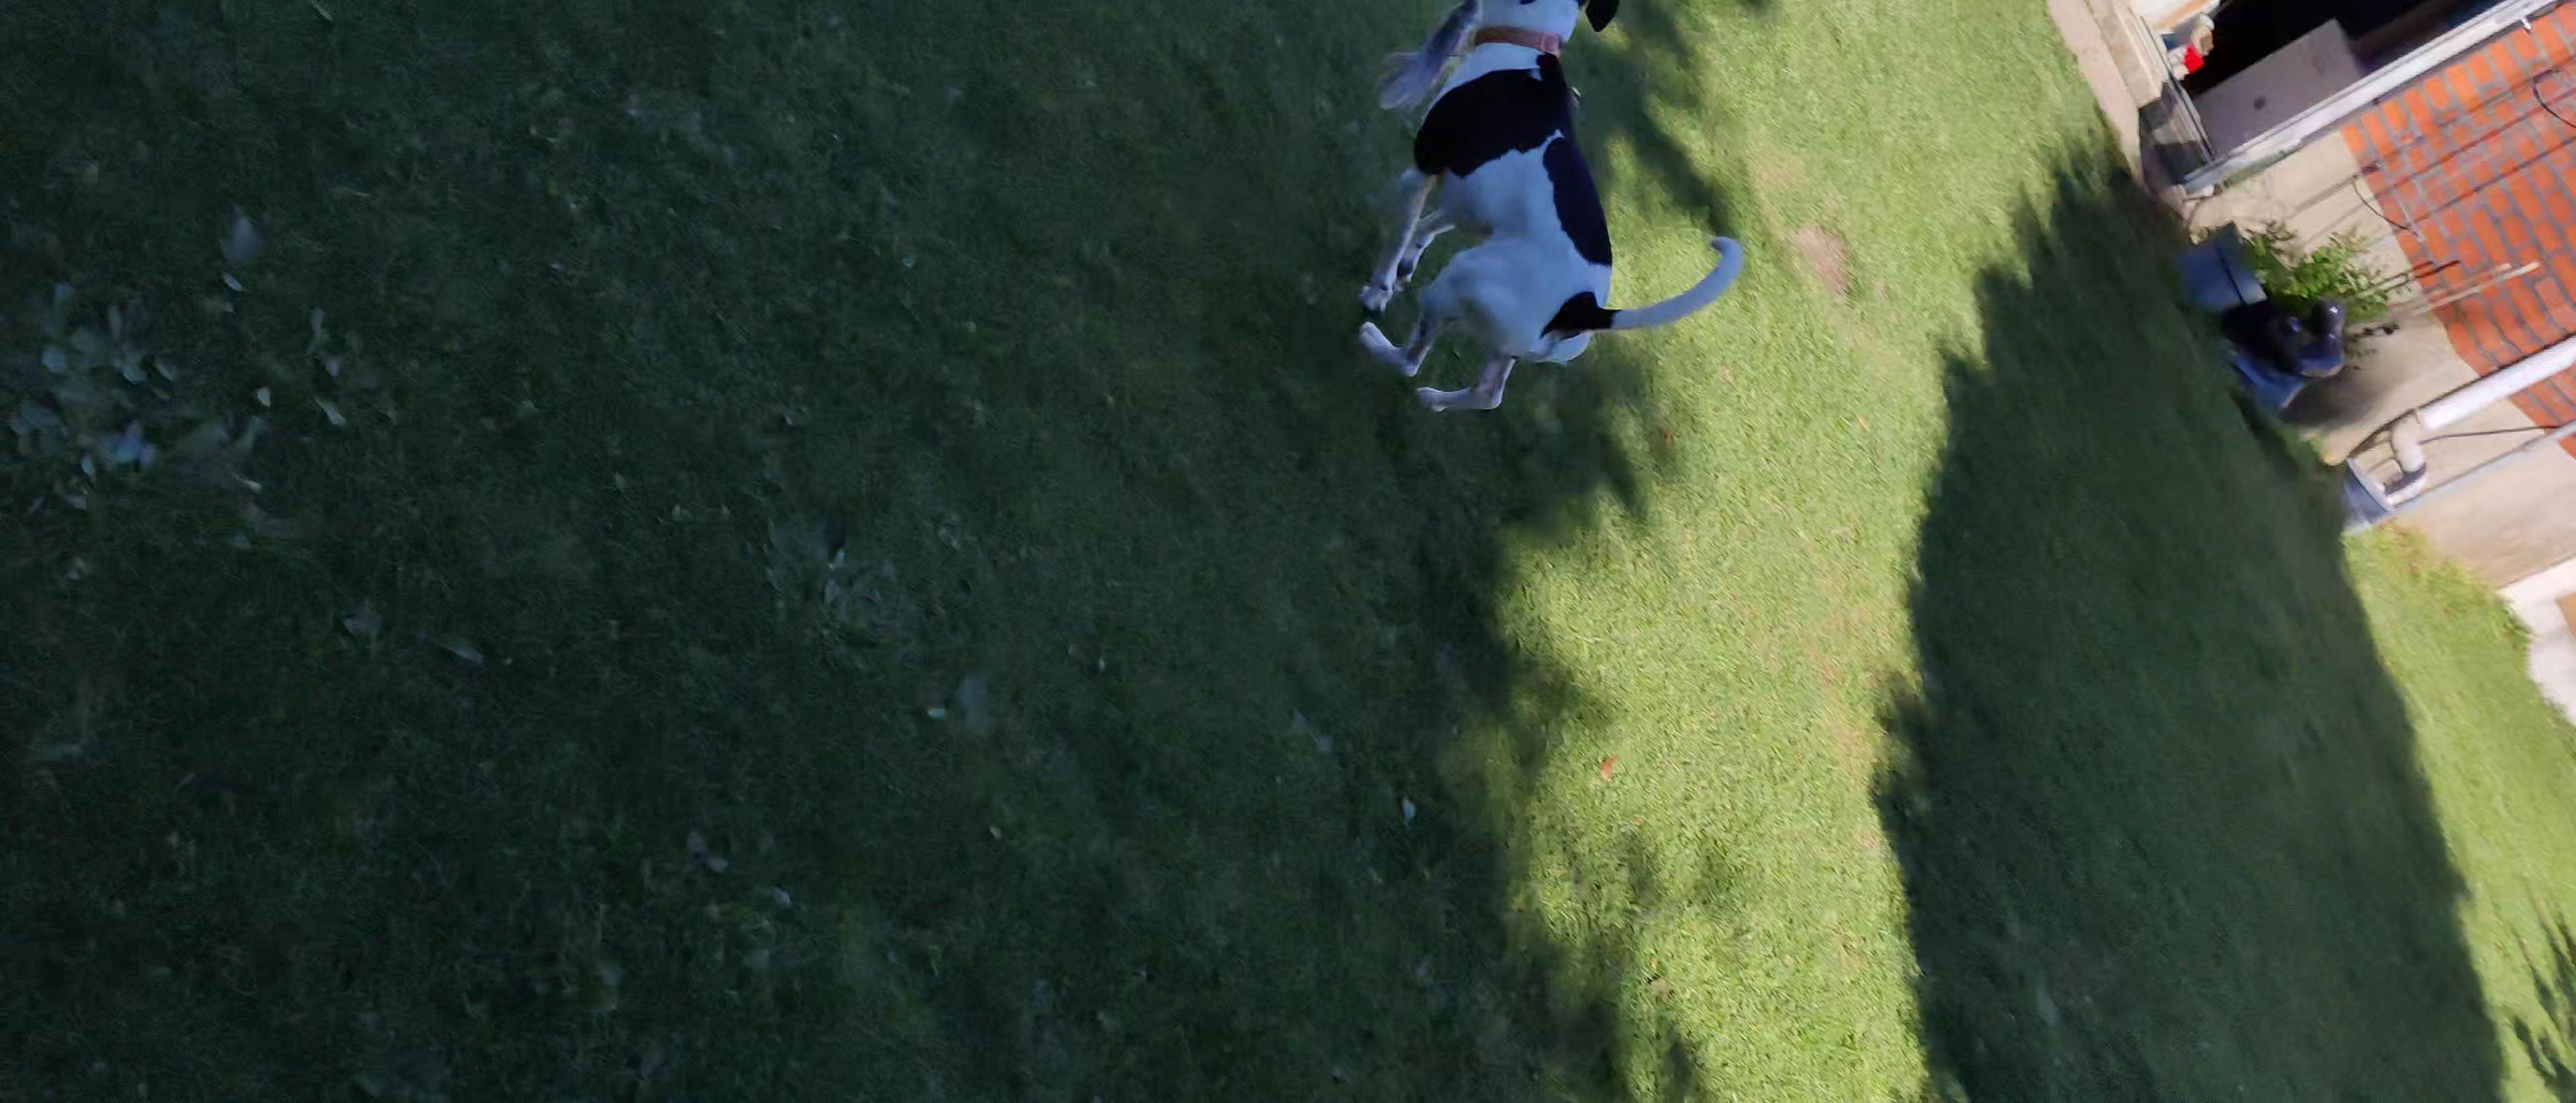Dog: (1321, 0, 1750, 427)
